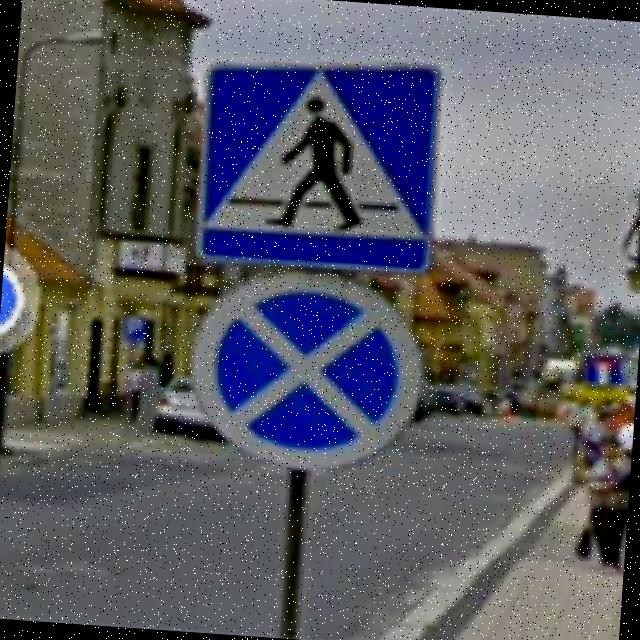Zakaz zatrzymywania sie: (180, 261, 435, 482)
